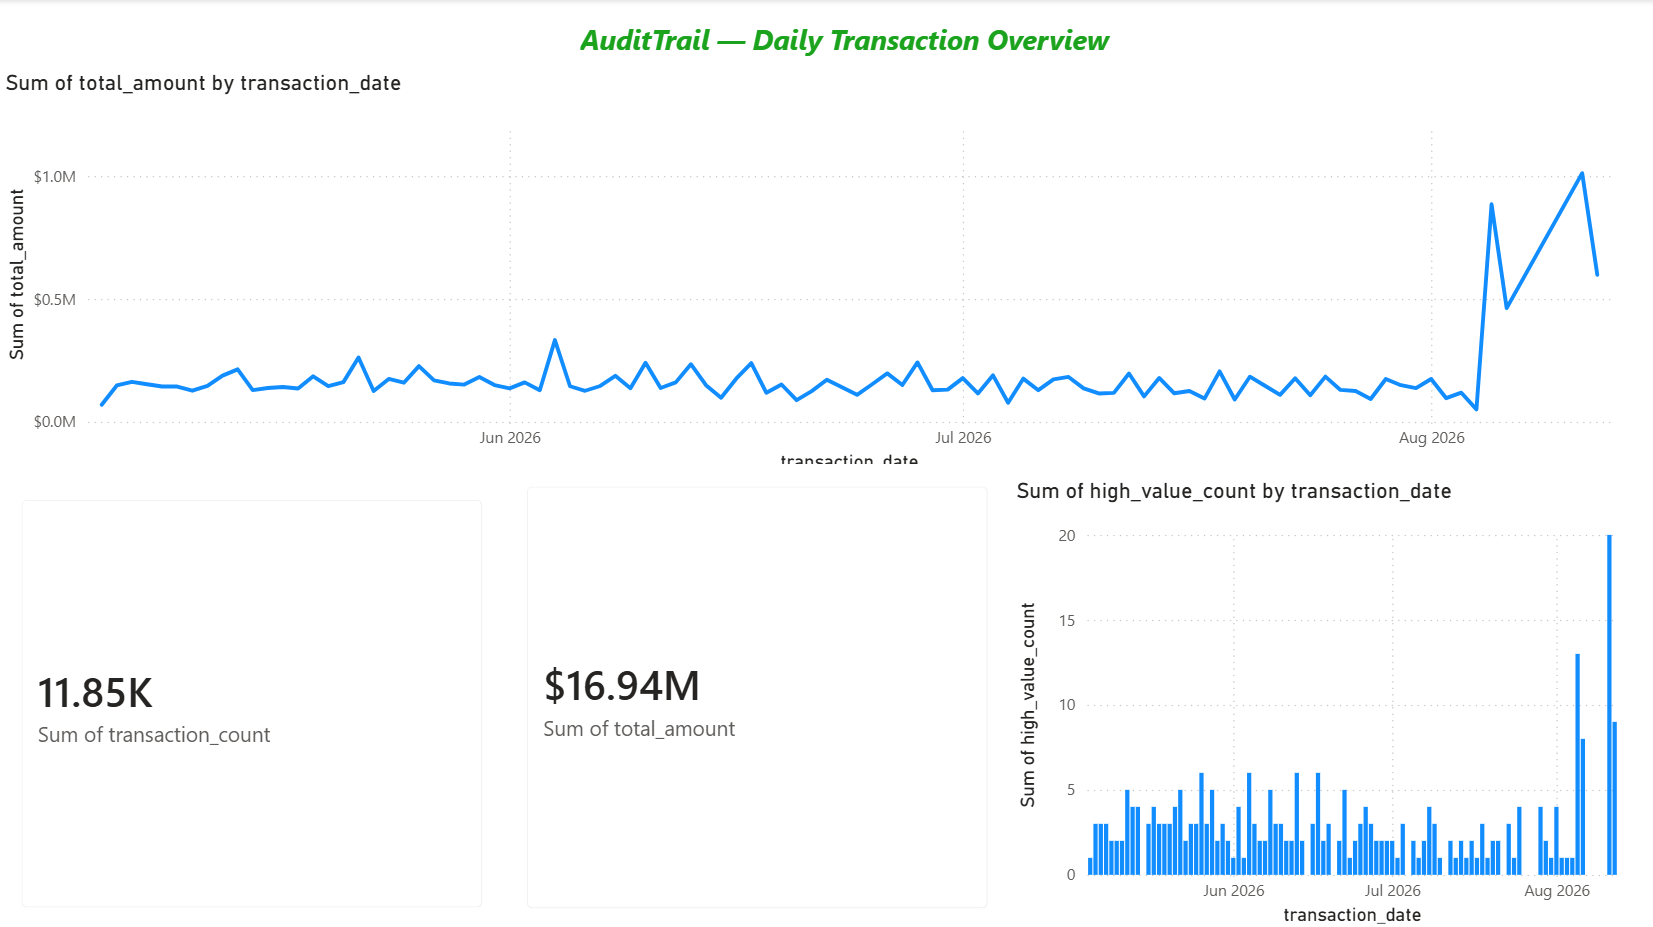

This screenshot's page, from the dashboard's own definition file:
{"tool":"powerbi","page":{"name":"Page 1","canvas":[1280,720],"ordinal":0},"visuals":[{"type":"lineChart","fields":{"Y":["Sum(fct_transactions_daily.total_amount)"],"Category":["fct_transactions_daily.transaction_date"]},"box":[0,54.5,1265.3,315.2],"z":0},{"type":"cardVisual","fields":{"Data":["Sum(fct_transactions_daily.transaction_count)"]},"box":[0,369.6,390.5,349.9],"z":1},{"type":"cardVisual","fields":{"Data":["Sum(fct_transactions_daily.total_amount)"]},"box":[390.5,359.2,390,360],"z":2},{"type":"columnChart","fields":{"Category":["fct_transactions_daily.transaction_date"],"Y":["Sum(fct_transactions_daily.high_value_count)"]},"box":[781,369.6,499.4,349.9],"z":3},{"type":"textbox","box":[443.8,10.4,446.1,68.4],"z":4}]}

Visuals, with their boxes in screenshot pixels (x1, y1, x2, y2), scaled from the page's 1280x720 canvas onto the 1653x927 screenshot:
lineChart - Sum(fct_transactions_daily.total_amount) x fct_transactions_daily.transaction_date: 0/70/1634/476
cardVisual - Sum(fct_transactions_daily.transaction_count): 0/476/504/926
cardVisual - Sum(fct_transactions_daily.total_amount): 504/462/1008/926
columnChart - fct_transactions_daily.transaction_date x Sum(fct_transactions_daily.high_value_count): 1009/476/1652/926
textbox: 573/13/1149/101
